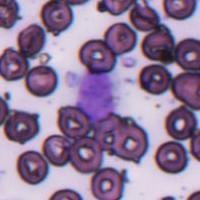L: (76, 70, 117, 123)
